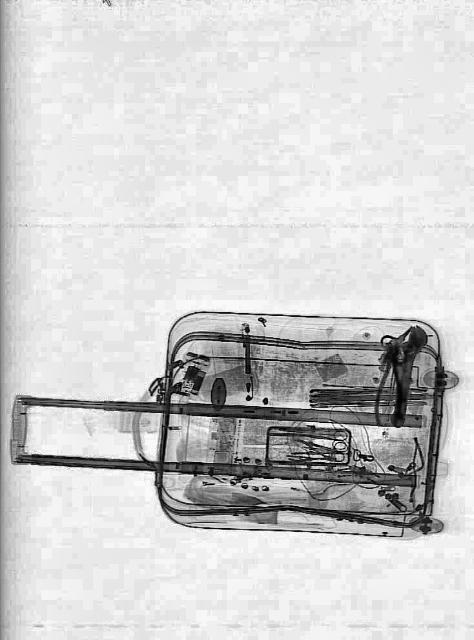Pliers: (372, 338, 406, 426)
Scissors: (296, 420, 349, 450)
Wrench: (380, 318, 430, 430)
